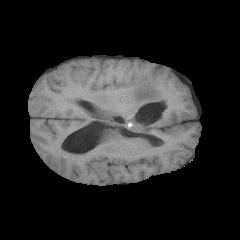glioma: (120, 80, 166, 133)
